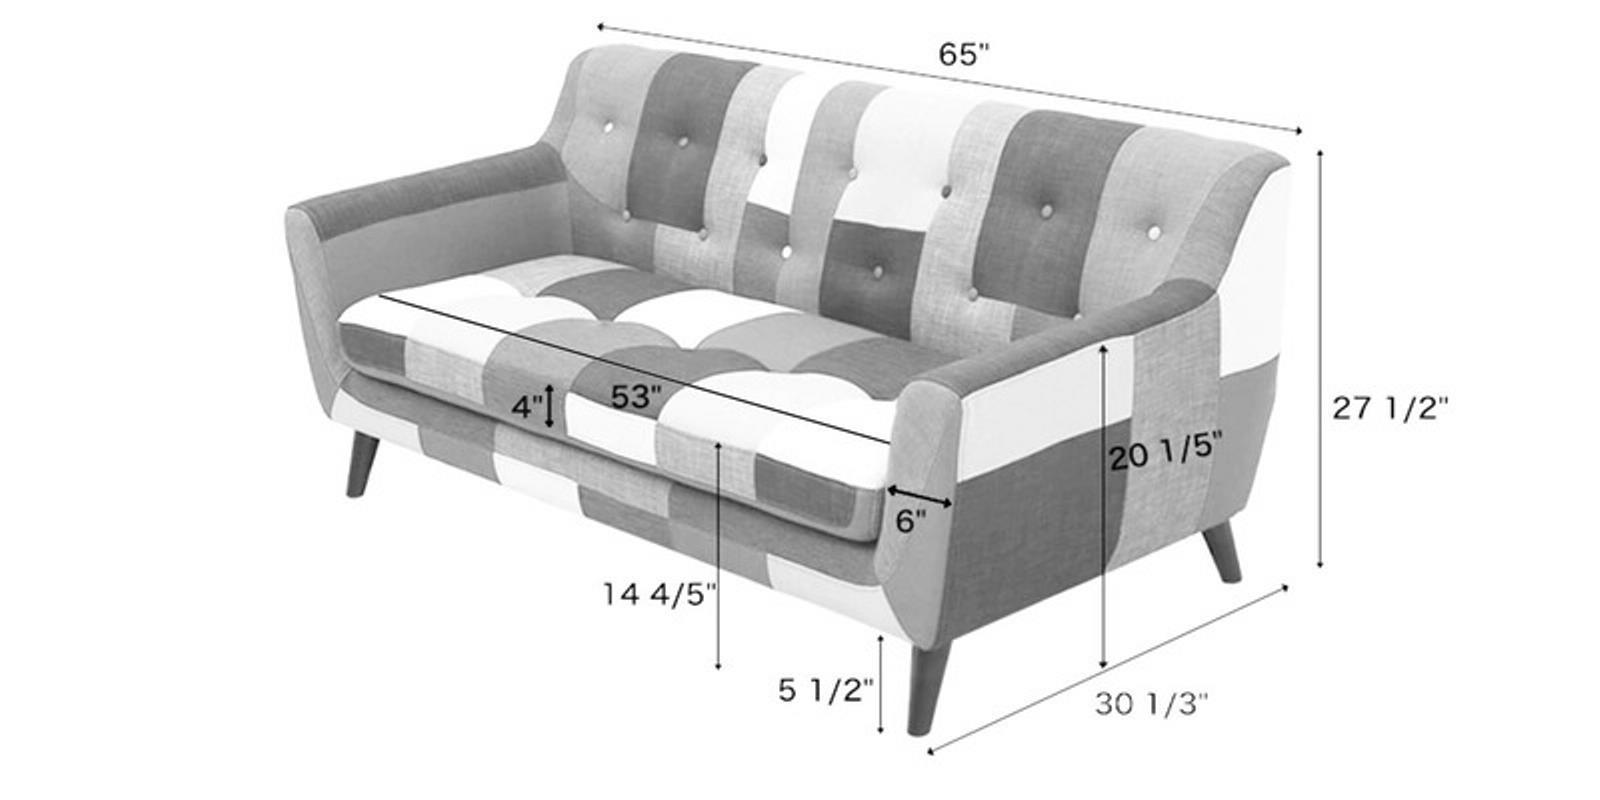Frida Three Seater Sofa in Grey Multi Colour by CasaCraft: (257, 37, 1287, 751)
